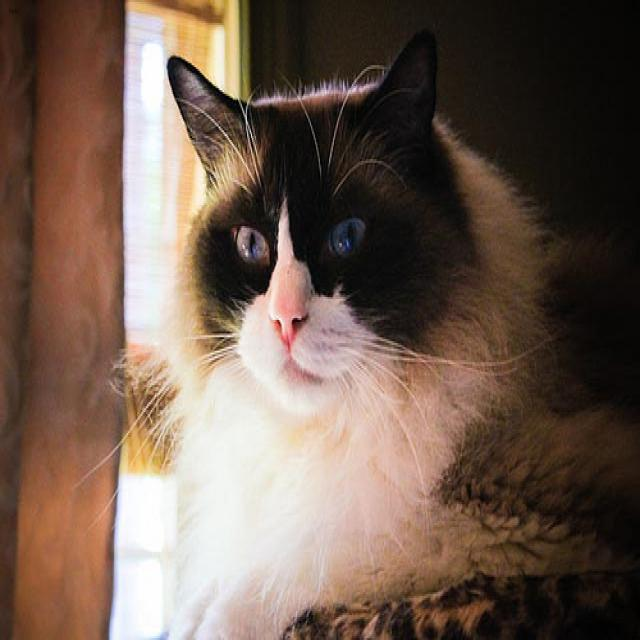Ragdoll: (164, 22, 467, 427)
